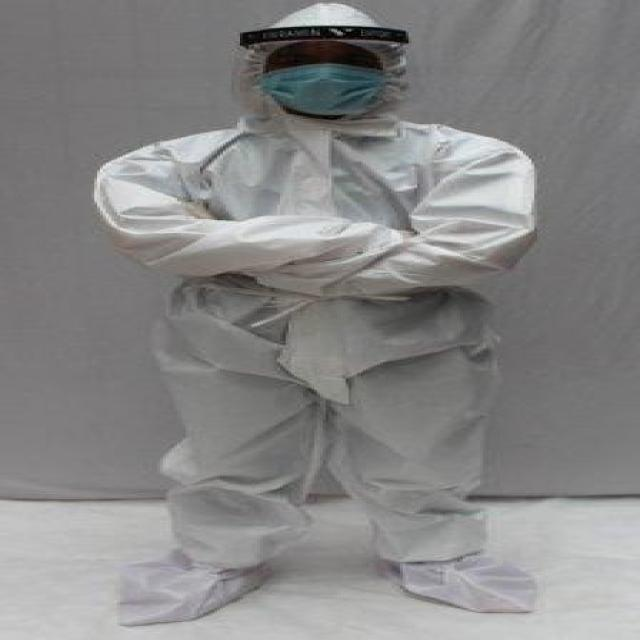Coverall: (80, 3, 560, 630)
Mask: (252, 62, 397, 117)
